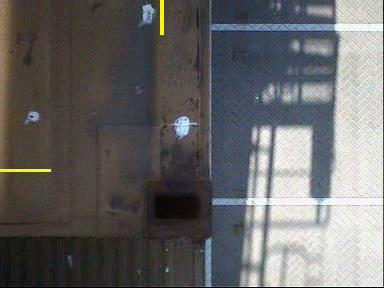groundmarker_2: (204, 160, 241, 211), (205, 1, 232, 34)
